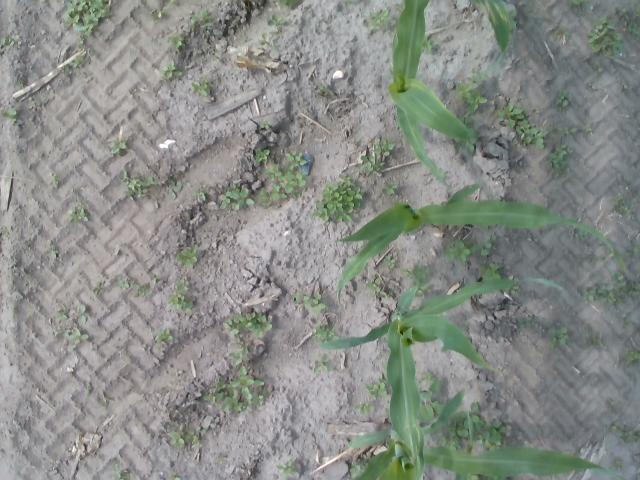Maize: (347, 319, 626, 480), (336, 182, 632, 304), (318, 278, 568, 373), (389, 0, 476, 188), (471, 1, 513, 76)
Weeds: (202, 366, 268, 416), (222, 308, 274, 366), (310, 172, 364, 227), (258, 150, 308, 207), (452, 402, 506, 450), (498, 104, 550, 150), (63, 0, 113, 44), (124, 170, 188, 202), (454, 67, 488, 125), (588, 14, 624, 57), (357, 140, 396, 177), (218, 179, 255, 213), (548, 141, 574, 180), (581, 283, 620, 308), (291, 290, 326, 316), (618, 6, 640, 46), (54, 325, 89, 350), (612, 268, 640, 296), (444, 240, 471, 264), (612, 422, 640, 444), (61, 57, 90, 78), (369, 8, 390, 36), (176, 246, 202, 268), (188, 10, 216, 30), (364, 377, 388, 400), (438, 428, 462, 451), (168, 294, 197, 313), (421, 392, 438, 424), (68, 203, 92, 225), (312, 322, 338, 342), (549, 327, 571, 350), (192, 76, 216, 96), (161, 59, 183, 80), (110, 459, 132, 480), (608, 196, 632, 215), (366, 276, 387, 297), (276, 460, 298, 480), (474, 236, 496, 256), (422, 370, 441, 392), (584, 326, 604, 346), (556, 88, 572, 112), (115, 271, 134, 291), (0, 34, 20, 52), (107, 140, 131, 155), (312, 356, 332, 374), (1, 106, 18, 126), (44, 241, 61, 261), (552, 123, 578, 136), (258, 31, 276, 49), (194, 183, 212, 201), (168, 430, 186, 448), (354, 400, 377, 414), (623, 346, 640, 364), (168, 35, 188, 50), (48, 172, 64, 190), (132, 283, 150, 299), (148, 10, 168, 24), (188, 428, 202, 448), (480, 264, 500, 278), (156, 328, 172, 344), (255, 149, 272, 164), (412, 264, 430, 278), (267, 15, 286, 28), (414, 281, 429, 296), (382, 182, 398, 196), (318, 82, 332, 98), (348, 460, 363, 474), (280, 0, 300, 10), (588, 253, 606, 264), (517, 318, 535, 329), (626, 246, 640, 259), (509, 10, 518, 30), (593, 61, 607, 73), (580, 122, 594, 134), (384, 256, 396, 270), (101, 391, 112, 406), (424, 36, 434, 52), (467, 139, 477, 155), (56, 308, 69, 320), (558, 26, 571, 38), (93, 281, 103, 296), (148, 272, 160, 284), (174, 281, 190, 290), (259, 119, 273, 129), (0, 224, 11, 236), (570, 0, 588, 7), (211, 52, 222, 63), (401, 268, 412, 279), (76, 304, 88, 314), (216, 454, 226, 466), (166, 472, 181, 480), (533, 104, 545, 114), (620, 80, 630, 92), (624, 318, 636, 328), (168, 0, 180, 9), (613, 458, 622, 470), (510, 286, 520, 296), (607, 398, 616, 409), (466, 473, 479, 480), (78, 315, 88, 324), (174, 368, 183, 377), (184, 210, 192, 216), (580, 231, 588, 237), (245, 37, 252, 43), (347, 0, 361, 3), (438, 168, 444, 174)
